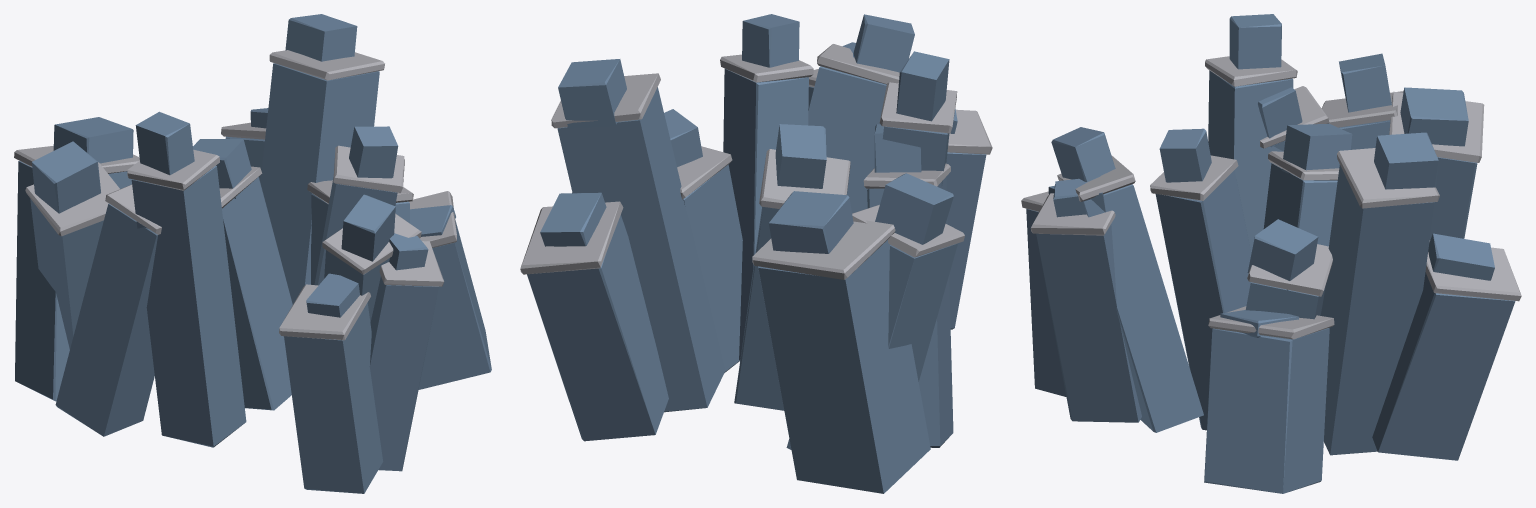
The model's file is seracs-lod1.glb.
3 views of the same model, side by side, from view 1: azimuth 30°, elevation 25°; view 2: azimuth 150°, elevation 25°; view 3: azimuth 270°, elevation 25° (orthographic). The views are drawn at different scales.
Visible parts, largest first — view 1: seracs.001; view 2: seracs.001; view 3: seracs.001.
Boxes of the visible parts, x1,y1,x2,y2 form: seracs.001: [14, 14, 491, 493]; seracs.001: [520, 14, 992, 493]; seracs.001: [1021, 14, 1521, 493].
Bounding box in the file's own units: 15.14 × 11.67 × 15.79.
